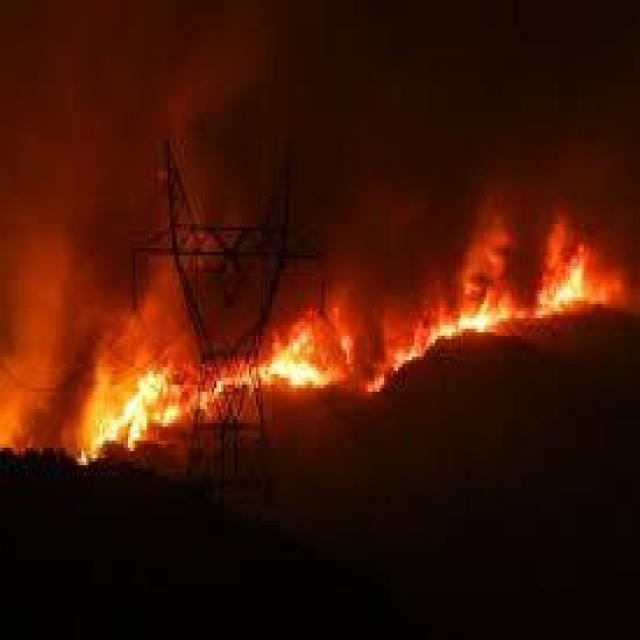Fire: (50, 268, 605, 472), (387, 222, 627, 378), (62, 332, 216, 476)
